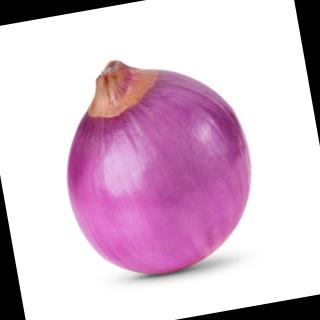Bawang Merah: (42, 34, 273, 292)
